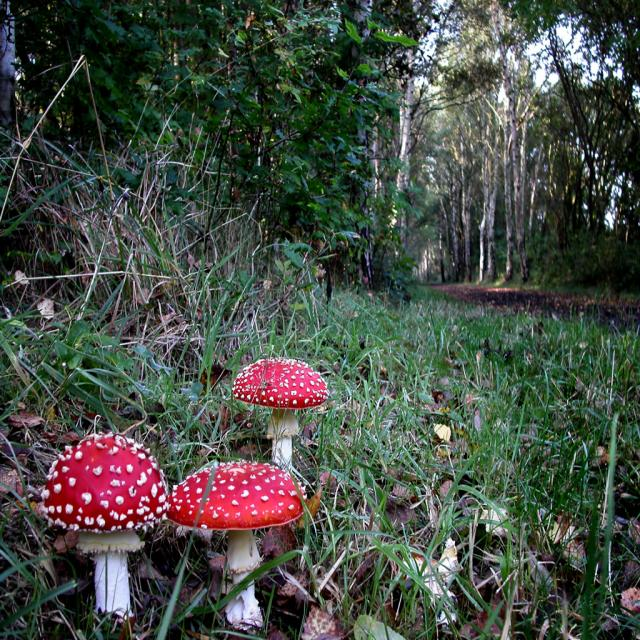Mushroom: (41, 432, 169, 625), (168, 458, 304, 631), (233, 357, 331, 464)
